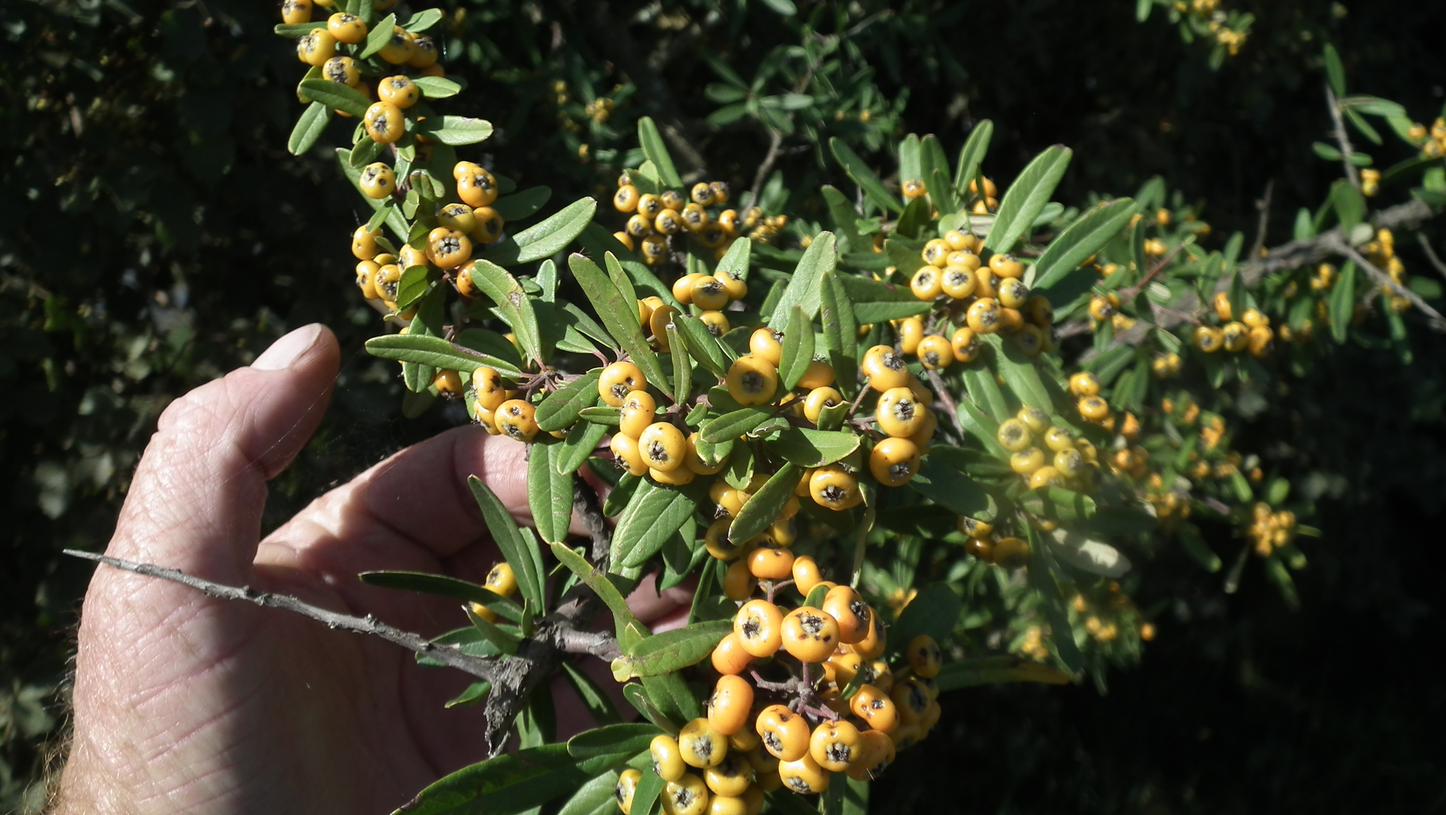Yellow Firethorn: (335, 41, 1321, 734)
